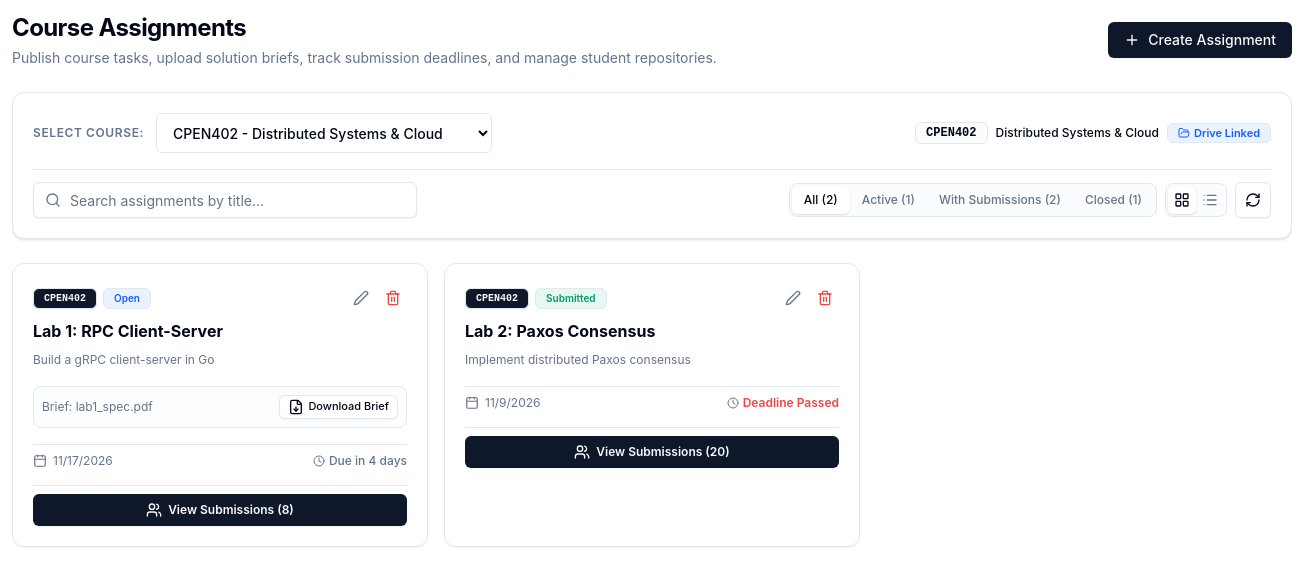
Test case: AssignmentsPage › toggles between Grid and Table views cleanly
Check: the heading "Lab 1: RPC Client-Server" is shown, box [33, 321, 223, 341]
Note: Toggle to Table view
Click the button titled "Table View": (1210, 200) [1196, 186, 1224, 214]
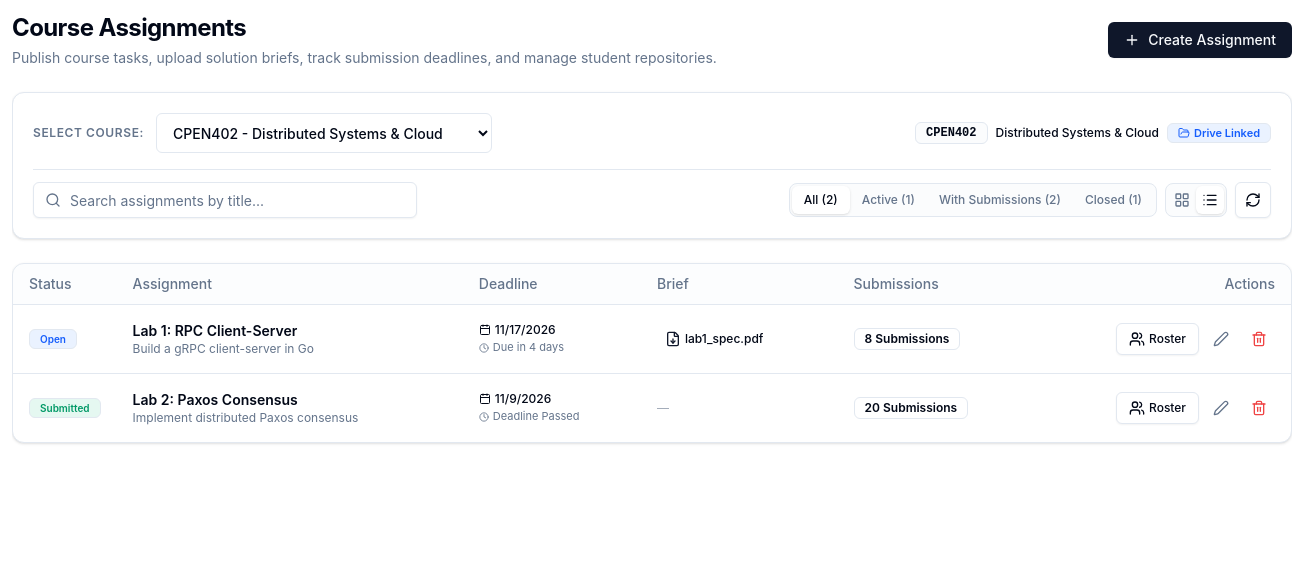
Check: the column heading "Assignment" is shown, box [116, 264, 463, 304]
Check: the column heading "Deadline" is shown, box [463, 264, 641, 304]
Check: the column heading "Submissions" is shown, box [838, 264, 1034, 304]
